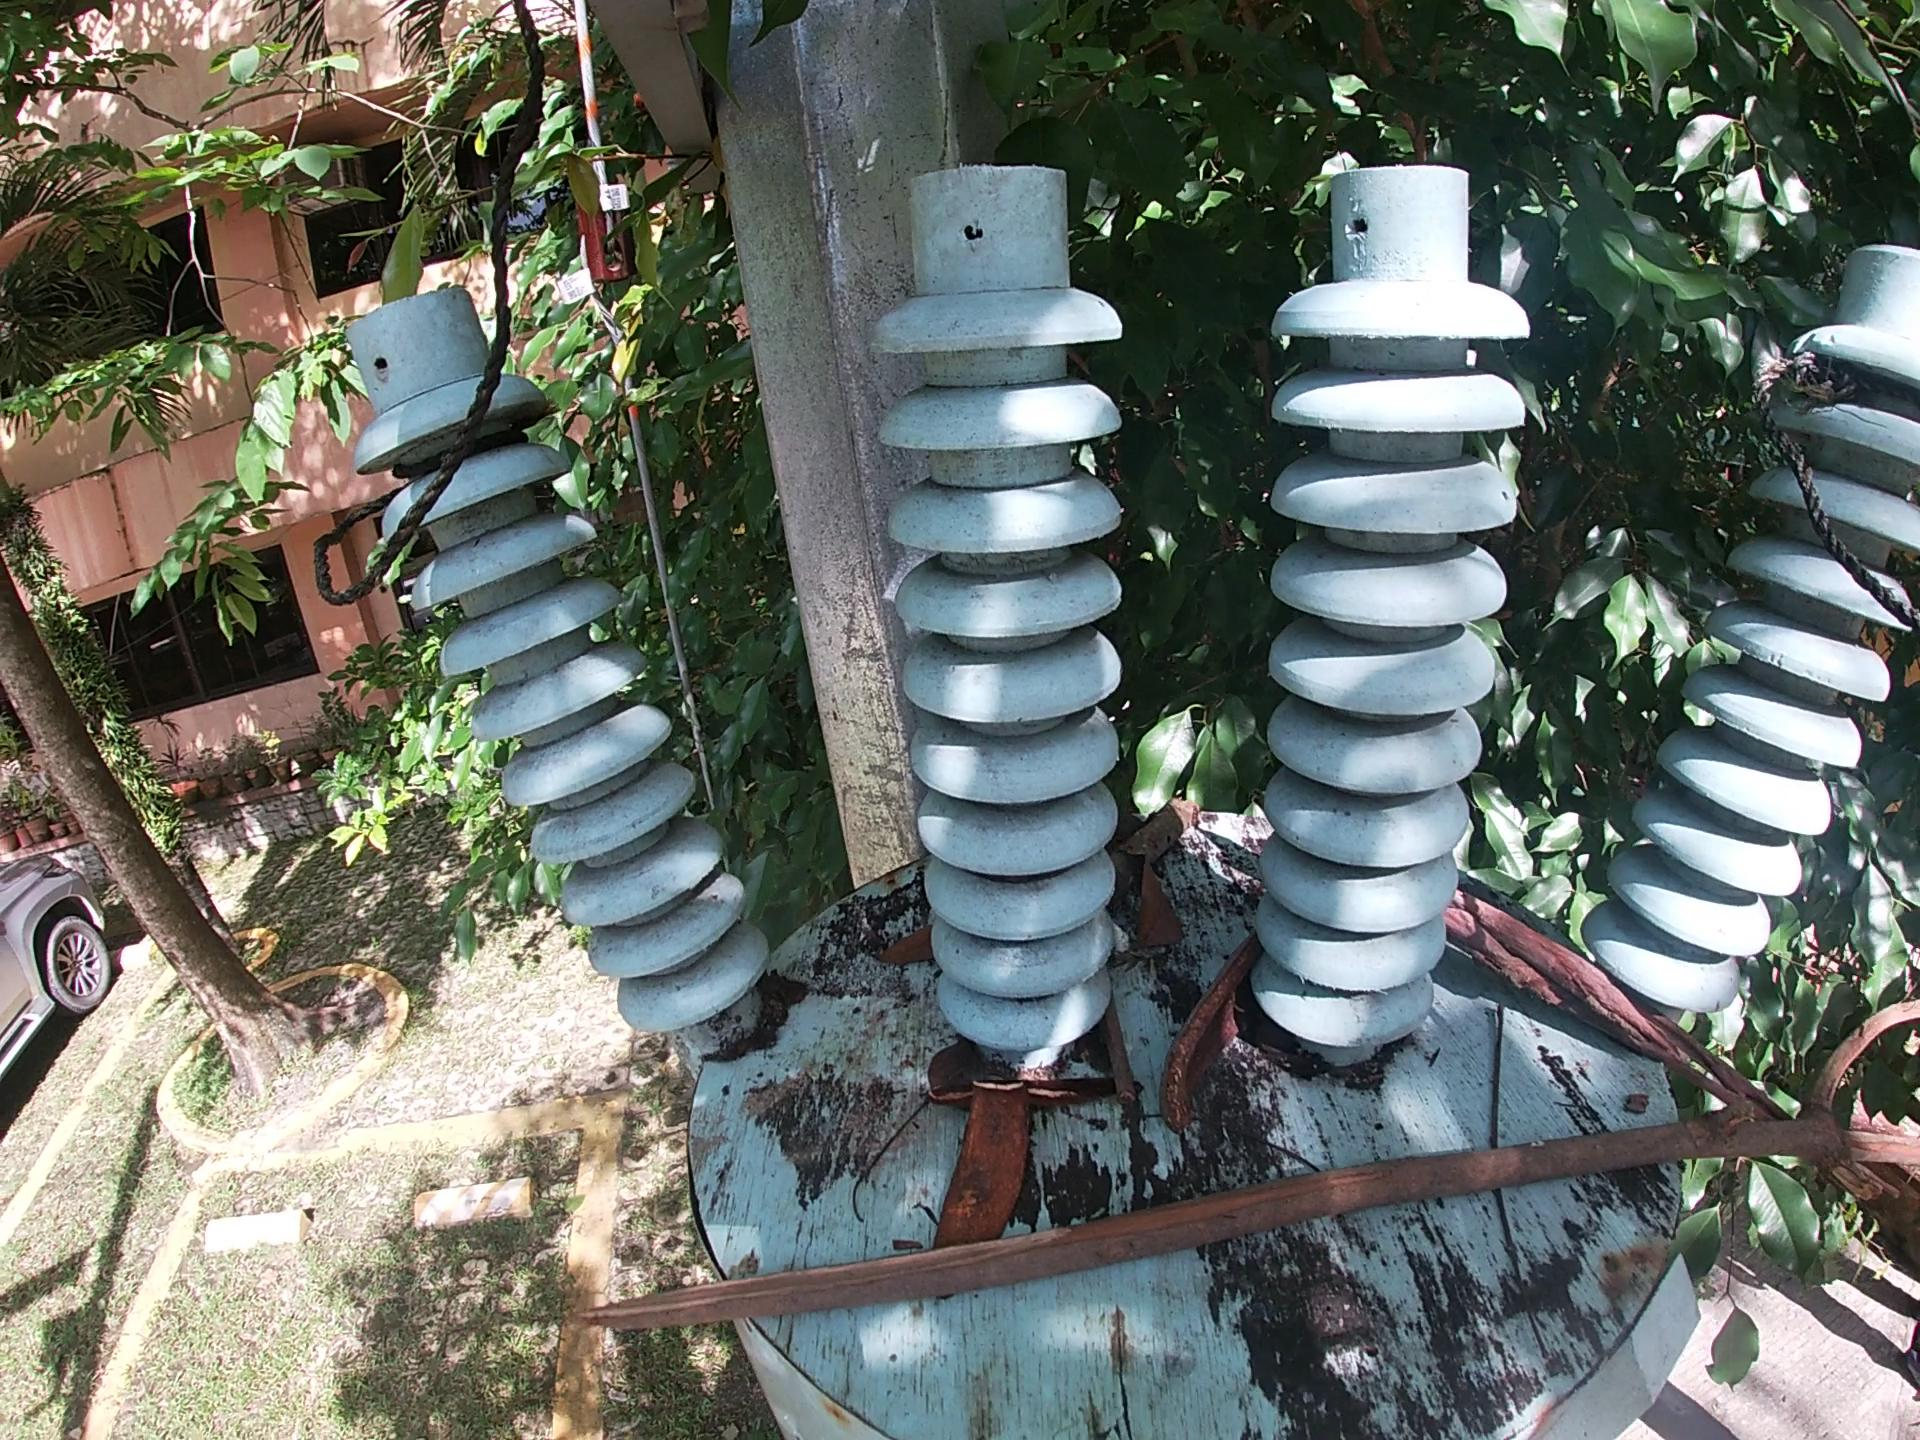leaf: (918, 1027, 978, 1088), (1154, 874, 1191, 957), (863, 942, 927, 973)
mahogany fruit: (1152, 939, 1259, 1144), (936, 1063, 1052, 1230)
tree branch: (543, 980, 1920, 1367), (1433, 889, 1782, 1124), (1492, 995, 1554, 1375), (851, 1091, 921, 1234), (1098, 796, 1184, 885), (1196, 1127, 1318, 1187), (1110, 1010, 1144, 1113)
